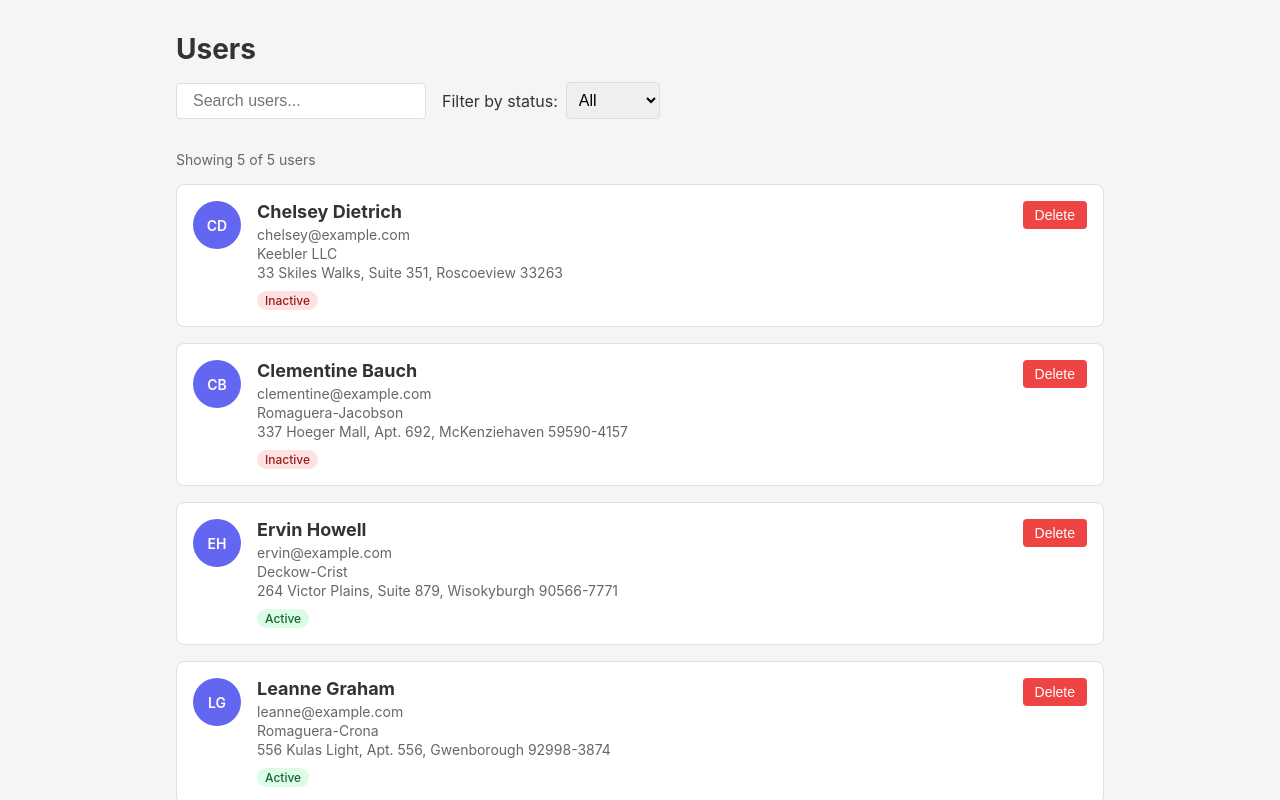
UsersPage › handles deleting a user
This screenshot has width=1280, height=800.
Expected: the heading "Leanne Graham" is shown, top-left (257, 678), bottom-right (395, 699)
Step 1. Click the button with aria-label "delete leanne graham" → (1055, 692), box top-left (1022, 678), bottom-right (1087, 706)
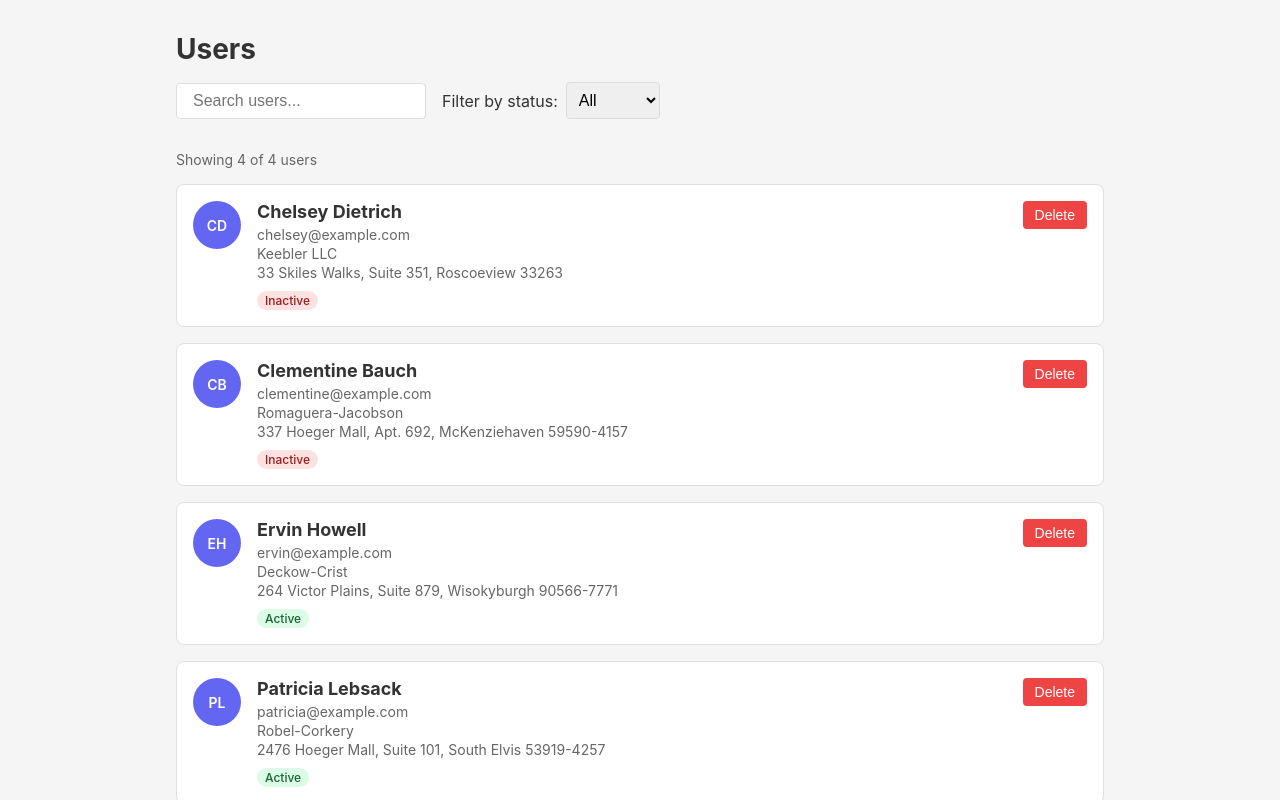
Result: the text "Showing 4 of 4 users" is shown at top-left (176, 151), bottom-right (317, 168)
Result: the heading "Leanne Graham" is gone
